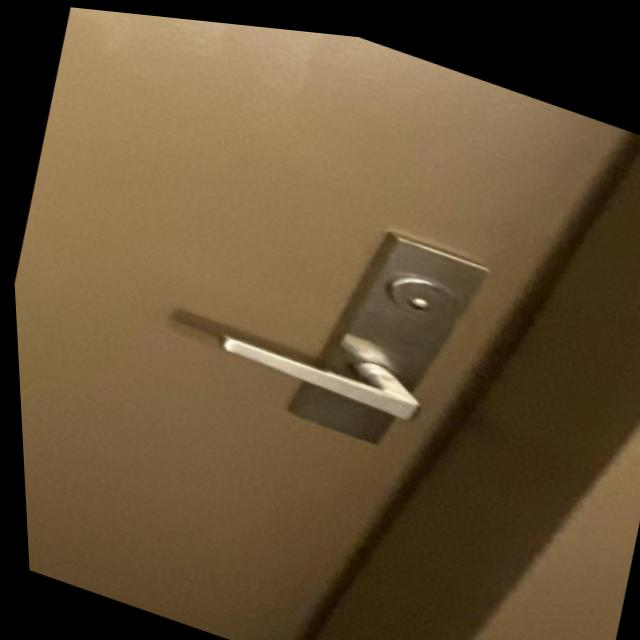door_handle: (187, 288, 461, 448)
